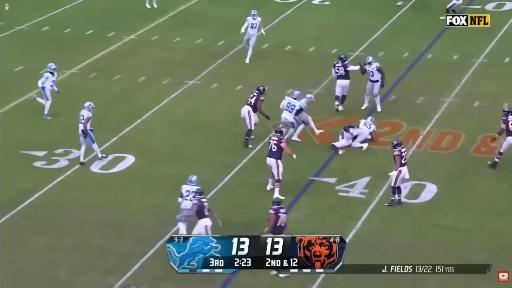Helmet: (272, 126, 285, 138), (270, 197, 283, 208), (46, 63, 57, 75), (291, 89, 302, 101), (194, 187, 205, 198), (336, 54, 348, 64), (84, 102, 94, 113), (255, 86, 267, 95), (303, 95, 316, 103), (188, 175, 198, 185), (392, 140, 402, 149), (250, 8, 258, 19), (366, 56, 374, 66), (503, 107, 511, 115), (365, 116, 374, 123)
Jersey: (280, 97, 303, 121), (179, 185, 201, 209), (269, 206, 287, 234), (267, 136, 285, 159), (246, 92, 263, 113), (38, 72, 57, 89), (333, 61, 350, 80), (365, 63, 381, 82), (196, 198, 209, 220), (79, 110, 92, 132), (394, 147, 407, 167), (247, 17, 261, 34), (360, 120, 376, 134), (341, 127, 356, 139), (503, 118, 511, 137), (299, 98, 308, 111)
Player: (267, 129, 296, 199), (79, 102, 108, 165), (241, 86, 269, 147), (332, 55, 361, 111), (386, 140, 409, 206), (177, 176, 202, 234), (292, 95, 323, 141), (34, 63, 59, 119), (488, 109, 511, 168), (361, 56, 385, 111), (192, 190, 221, 235), (241, 10, 264, 63), (280, 91, 303, 138), (331, 126, 368, 154), (268, 199, 287, 235), (360, 117, 376, 139), (446, 0, 462, 14)
